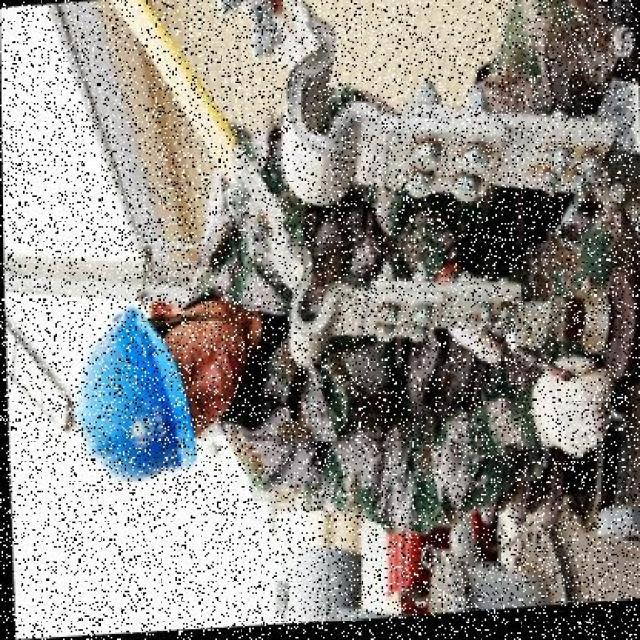helmet: (74, 286, 213, 490)
